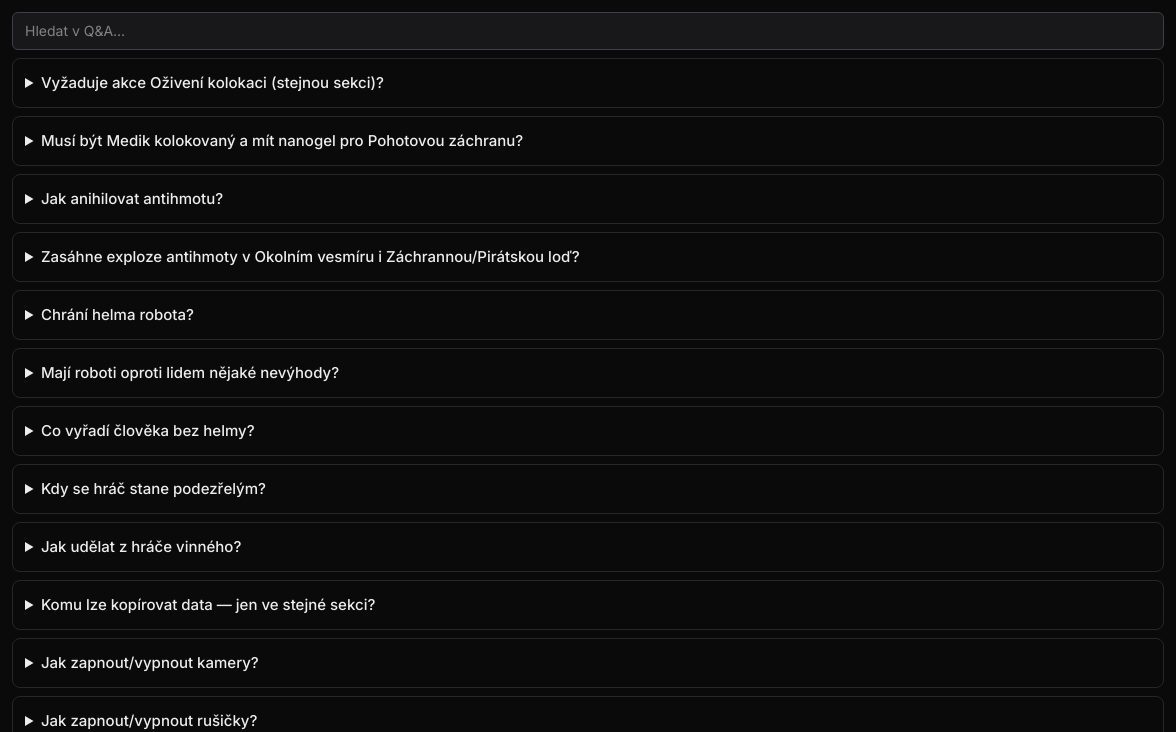
Test: FaqList › filters by query (question text or tags)
In the search field: (588, 31) 12,12 -> 1164,50, type "kamery"
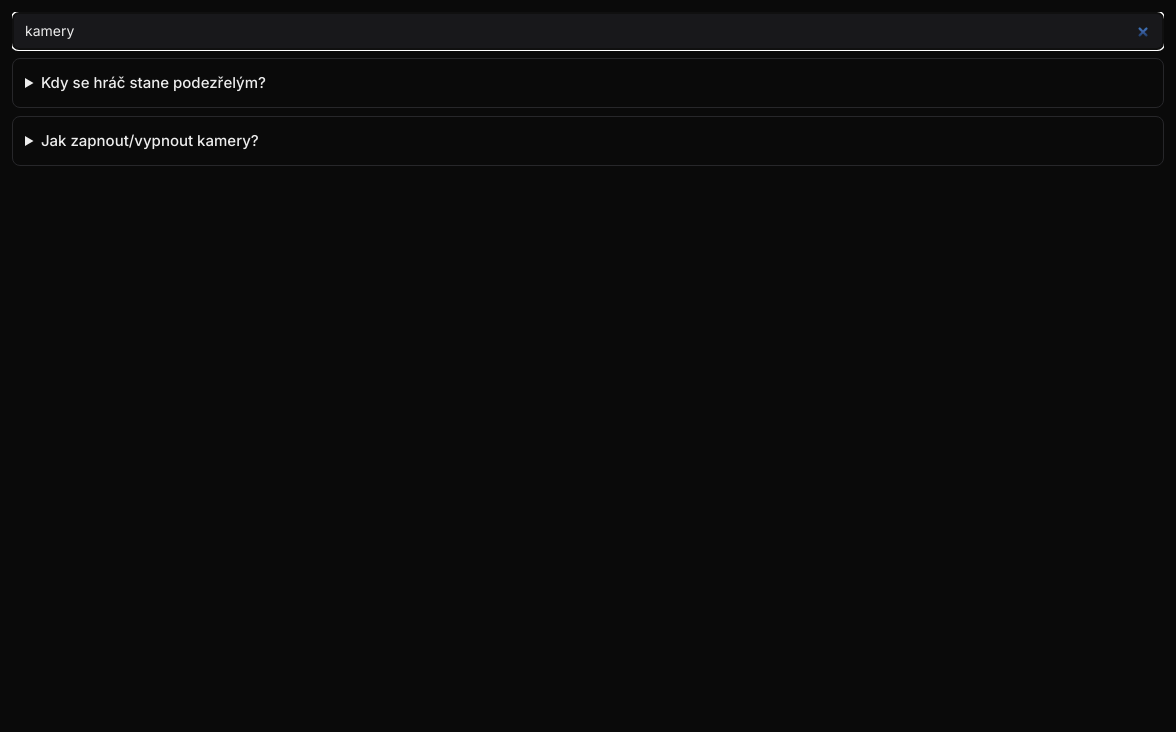
Check: the heading "Jak zapnout/vypnout kamery?" is shown, box 41,131 -> 259,150
Check: the heading "Jak anihilovat antihmotu?" is gone
